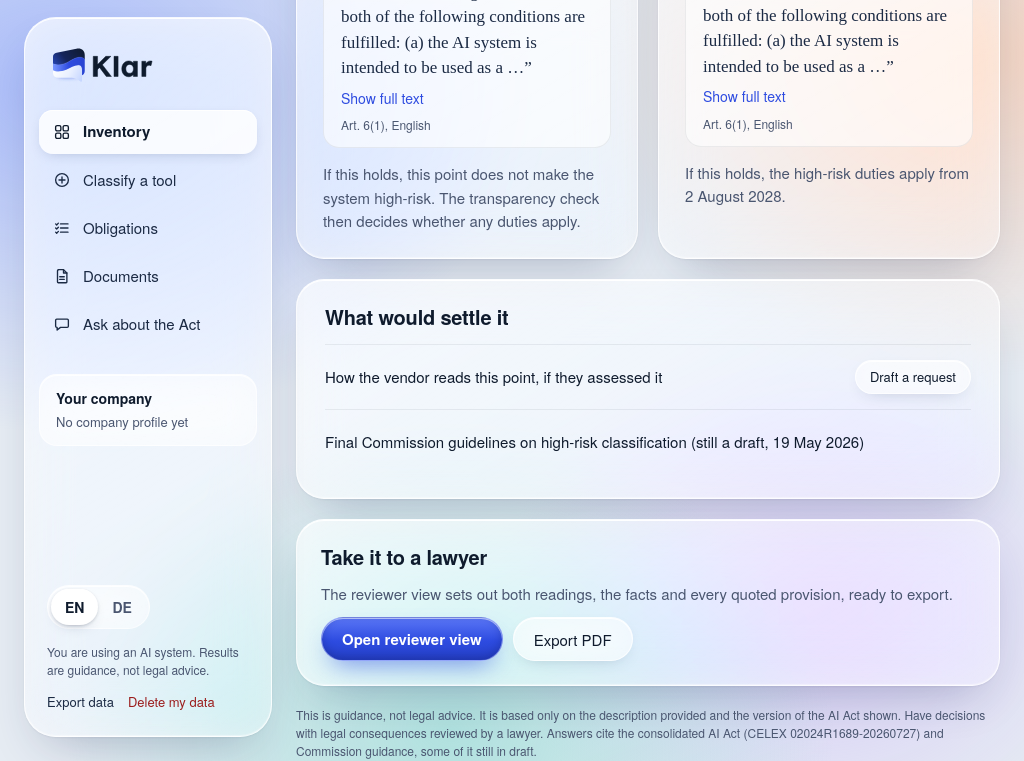
Test case: A legally ambiguous result (en) › opens P28’s request letter from Draft a request, naming the tool
(page scrolled)
Click the button "Draft a request": (913, 377) [855,360,971,394]
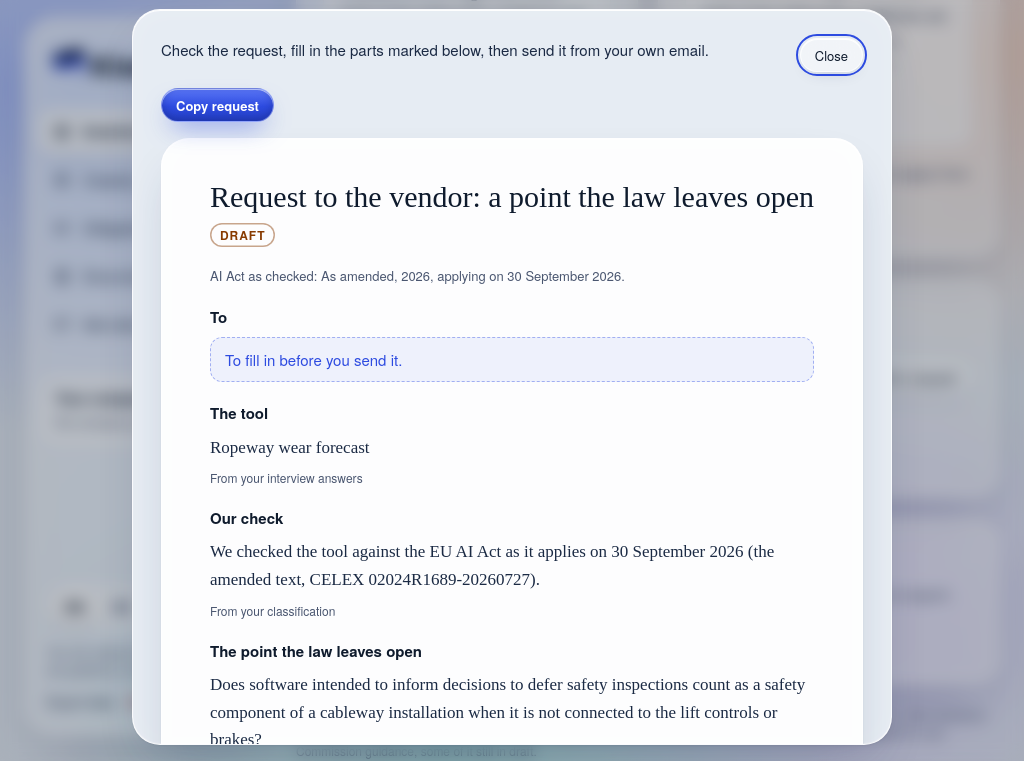
expect the text "Check the request, fill in the parts marked below, then send it from your own email." is shown: met, box [161,39,709,60]
expect the heading "Request to the vendor: a point the law leaves open" is shown: met, box [210,179,814,215]
expect the button "Copy request" is shown: met, box [161,88,274,122]
